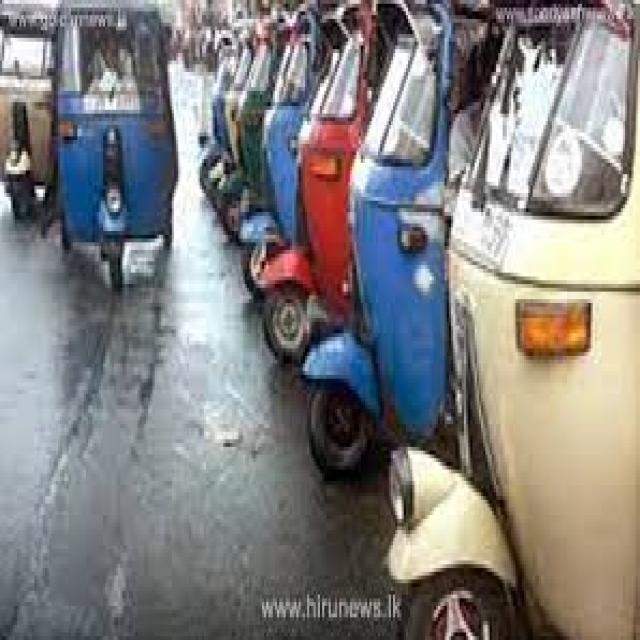three wheeler: (393, 8, 638, 640), (303, 4, 449, 477), (256, 4, 369, 364), (58, 8, 176, 288), (238, 11, 326, 333), (200, 23, 277, 242), (0, 4, 54, 227)
